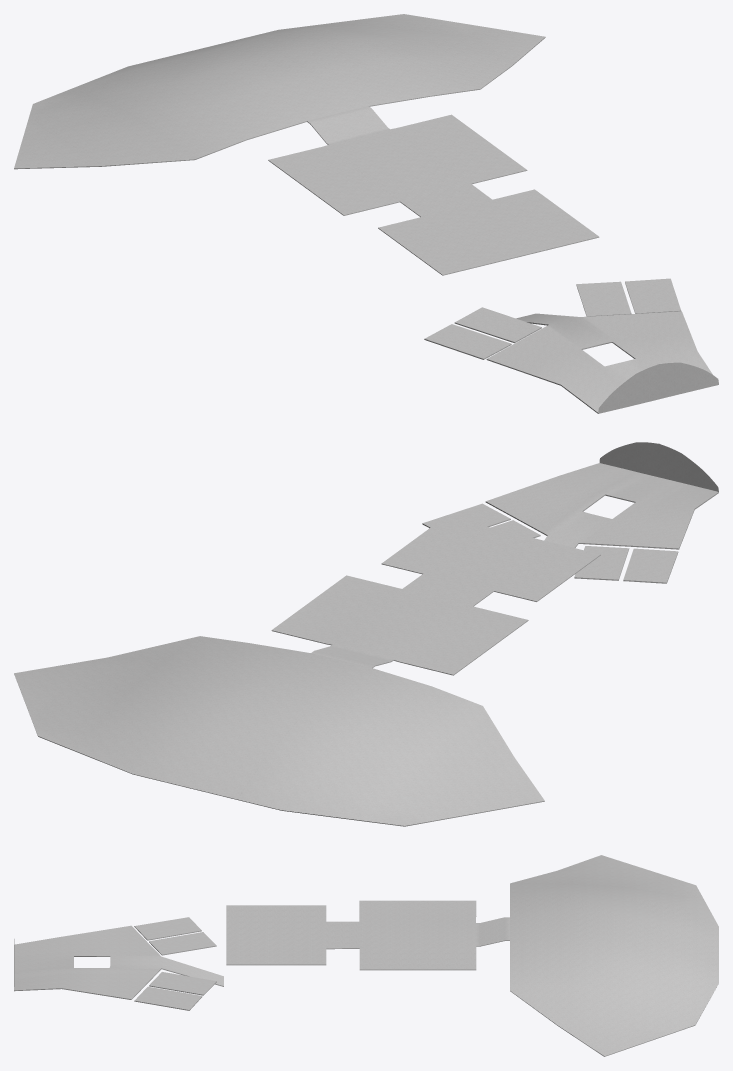
The model's file is ceiling.fbx.
3 renders of one model, top to bottom at view 1: azimuth 30°, elevation 25°; view 2: azimuth 150°, elevation 25°; view 3: azimuth 270°, elevation 25°, orthographic. The views are drawn at different scales.
Parts seen in each view (by area): view 1: EngineRoomCeiling, FrontRoomCeiling, UpperRoomLargeCeiling, OxygenRoomCeiling, UpperCorridor1Ceiling, Bedroom1Ceiling, Bedroom2Ceiling, Bedroom4Ceiling, UpperCorridor2Ceiling, Bedroom3Ceiling; view 2: EngineRoomCeiling, FrontRoomCeiling, UpperRoomLargeCeiling, OxygenRoomCeiling, Bedroom1Ceiling, UpperCorridor2Ceiling, Bedroom2Ceiling, Bedroom4Ceiling, UpperCorridor1Ceiling; view 3: EngineRoomCeiling, FrontRoomCeiling, UpperRoomLargeCeiling, OxygenRoomCeiling, Bedroom4Ceiling, Bedroom3Ceiling, Bedroom2Ceiling, Bedroom1Ceiling, UpperCorridor2Ceiling, UpperCorridor1Ceiling.
Part boxes in pixels (box(x1,y1,x2,y2)): EngineRoomCeiling: box(14, 14, 545, 169); FrontRoomCeiling: box(486, 311, 718, 413); UpperRoomLargeCeiling: box(268, 114, 527, 215); OxygenRoomCeiling: box(378, 189, 599, 275); UpperCorridor1Ceiling: box(307, 106, 389, 144); Bedroom1Ceiling: box(424, 324, 511, 359); Bedroom2Ceiling: box(454, 307, 541, 343); Bedroom4Ceiling: box(625, 278, 681, 313); UpperCorridor2Ceiling: box(400, 184, 491, 217); Bedroom3Ceiling: box(576, 281, 631, 316); EngineRoomCeiling: box(14, 636, 544, 826); FrontRoomCeiling: box(485, 442, 718, 549); UpperRoomLargeCeiling: box(271, 575, 528, 675); OxygenRoomCeiling: box(381, 516, 600, 601); Bedroom1Ceiling: box(623, 548, 678, 583); UpperCorridor2Ceiling: box(402, 574, 493, 606); Bedroom2Ceiling: box(574, 546, 629, 580); Bedroom4Ceiling: box(422, 503, 510, 528); UpperCorridor1Ceiling: box(311, 645, 393, 668); EngineRoomCeiling: box(510, 855, 718, 1056); FrontRoomCeiling: box(14, 925, 223, 999); UpperRoomLargeCeiling: box(359, 900, 476, 970); OxygenRoomCeiling: box(226, 905, 326, 965); Bedroom4Ceiling: box(134, 986, 202, 1010); Bedroom3Ceiling: box(149, 972, 216, 995); Bedroom2Ceiling: box(149, 932, 216, 955); Bedroom1Ceiling: box(134, 917, 201, 940); UpperCorridor2Ceiling: box(326, 921, 359, 949); UpperCorridor1Ceiling: box(476, 917, 509, 946).
Bounding box in the file's own units: 6947 × 929 × 10281.
Materials: 1 (1 with a texture image).
